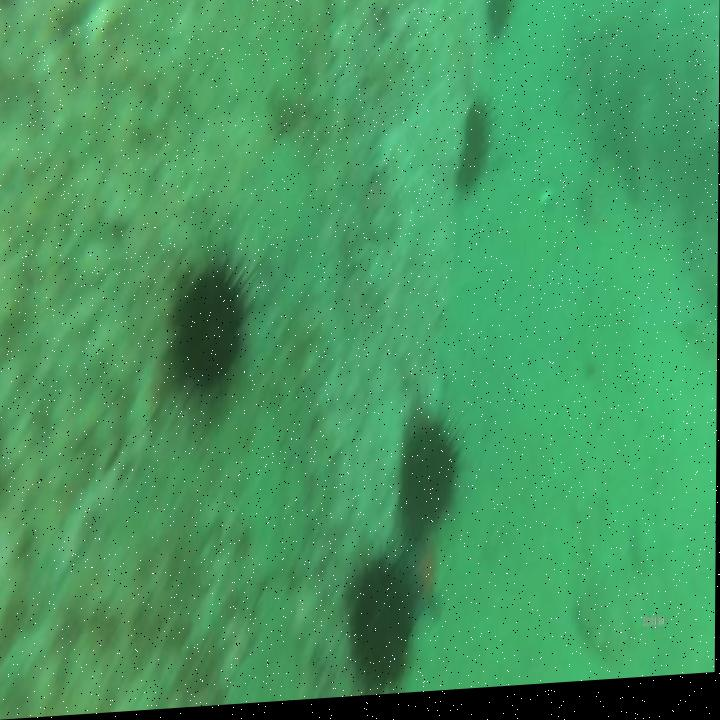echinus: (166, 246, 257, 423), (348, 543, 420, 701), (397, 418, 464, 539), (452, 100, 498, 202), (487, 0, 518, 53)
starfish: (398, 524, 447, 636)
